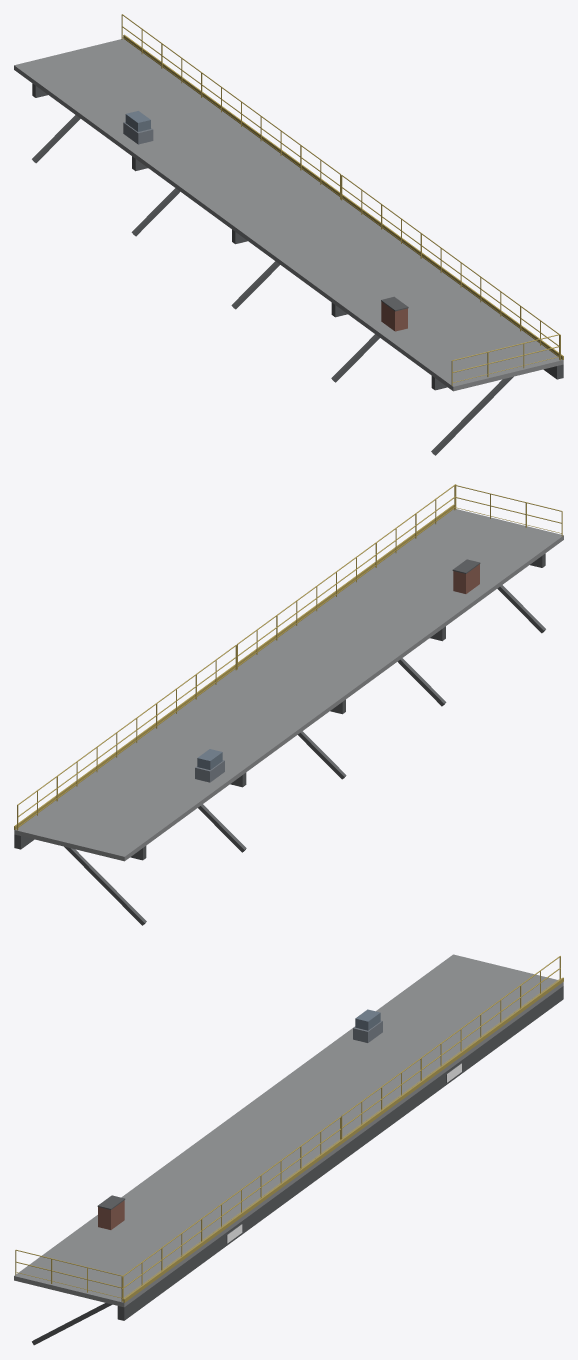
The model's file is plat_w3.glb.
The picture shows the model from 3 angles, top to bottom: view 1: azimuth 30°, elevation 25°; view 2: azimuth 150°, elevation 25°; view 3: azimuth 330°, elevation 25°; orthographic projection.
Parts seen in each view (by area): view 1: plat_w3; view 2: plat_w3; view 3: plat_w3.
Boxes of the visible parts, x1=… form: plat_w3: x1=14, y1=14, x2=563, y2=455; plat_w3: x1=14, y1=484, x2=563, y2=925; plat_w3: x1=14, y1=954, x2=563, y2=1345.
Bounding box in the file's own units: 5.18 × 4.79 × 35.2.
